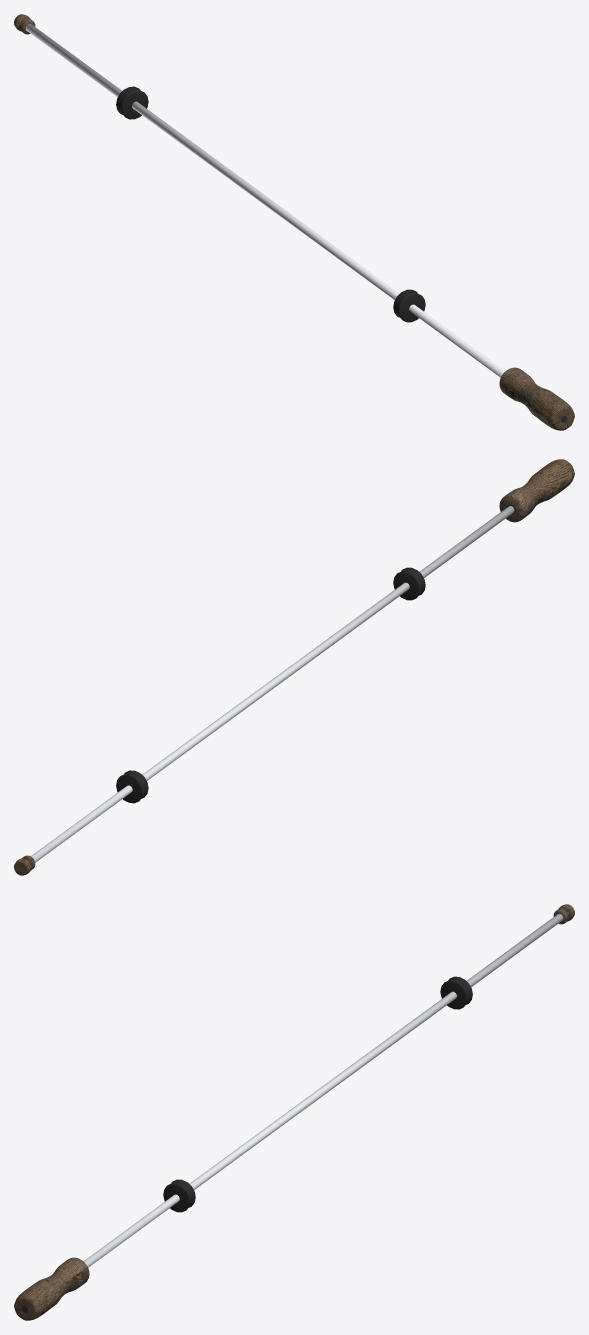
Rendered from fuzeball_rod_5man.glb.
3 renders of one model, top to bottom at view 1: azimuth 30°, elevation 25°; view 2: azimuth 150°, elevation 25°; view 3: azimuth 330°, elevation 25°, orthographic.
Parts seen in each view (by area): view 1: rod5_bar.001, rod5_handle.wood, CylinderL_rod3, CylinderR_rod3; view 2: rod5_bar.001, rod5_handle.wood, CylinderL_rod3, CylinderR_rod3; view 3: rod5_bar.001, rod5_handle.wood, CylinderL_rod3, CylinderR_rod3.
Boxes of the visible parts, left/top/right/bottom form: rod5_bar.001: left=25, top=24, right=505, bottom=377; rod5_handle.wood: left=499, top=367, right=574, bottom=430; CylinderL_rod3: left=393, top=289, right=425, bottom=322; CylinderR_rod3: left=116, top=86, right=148, bottom=119; rod5_bar.001: left=31, top=506, right=514, bottom=862; rod5_handle.wood: left=499, top=459, right=574, bottom=522; CylinderL_rod3: left=393, top=567, right=425, bottom=600; CylinderR_rod3: left=116, top=770, right=148, bottom=803; rod5_bar.001: left=83, top=914, right=563, bottom=1267; rod5_handle.wood: left=14, top=1257, right=89, bottom=1320; CylinderL_rod3: left=163, top=1179, right=195, bottom=1212; CylinderR_rod3: left=440, top=976, right=472, bottom=1009.
Bounding box in the file's own units: 3.02 × 3.02 × 104.
Materials: 4 (1 with a texture image).
